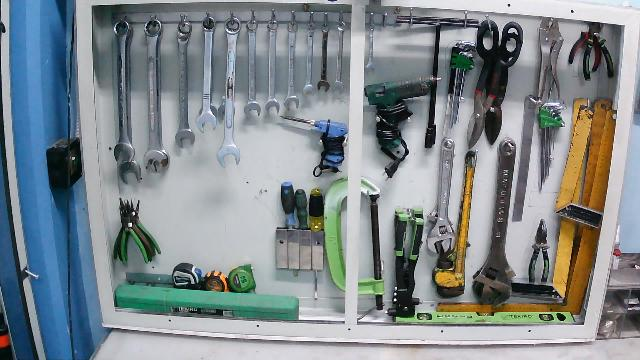tang_kombinasi: (527, 217, 553, 283)
